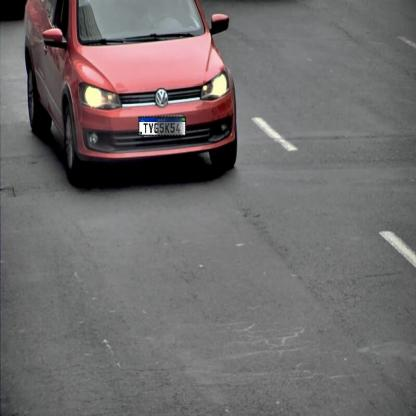PlacaM: (138, 116, 186, 136)
